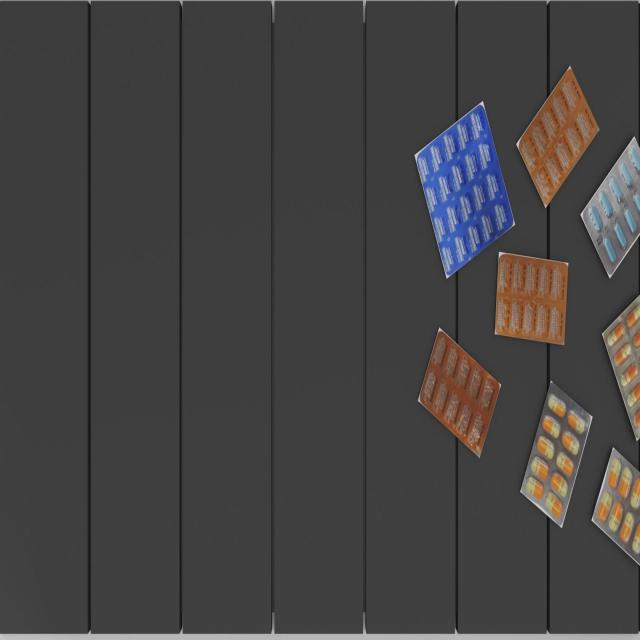blister: (410, 89, 520, 287), (511, 374, 594, 538), (414, 324, 504, 462), (518, 63, 600, 212), (575, 128, 639, 284), (495, 246, 573, 350), (590, 439, 640, 573), (598, 285, 640, 444)
